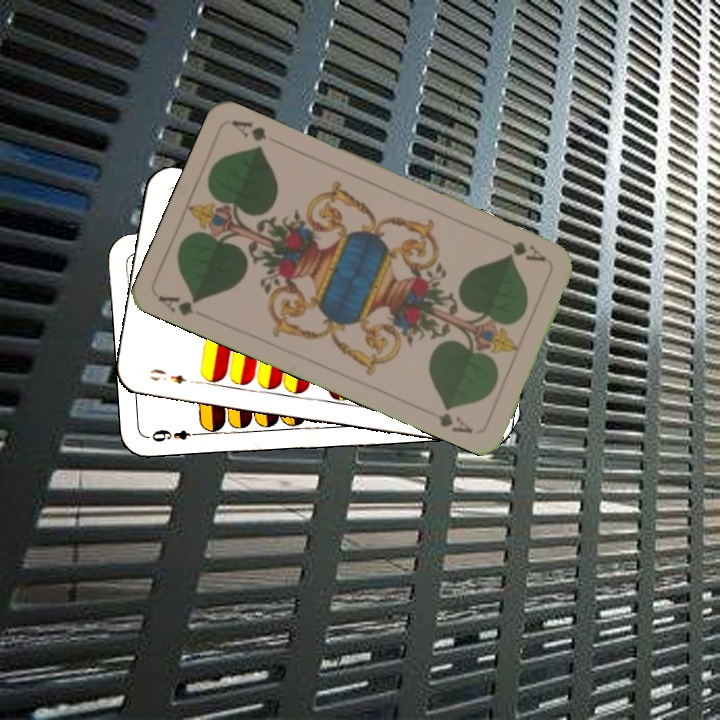E9: (145, 425, 204, 445), (145, 364, 189, 387)
GA: (497, 233, 549, 265), (154, 291, 202, 319)
